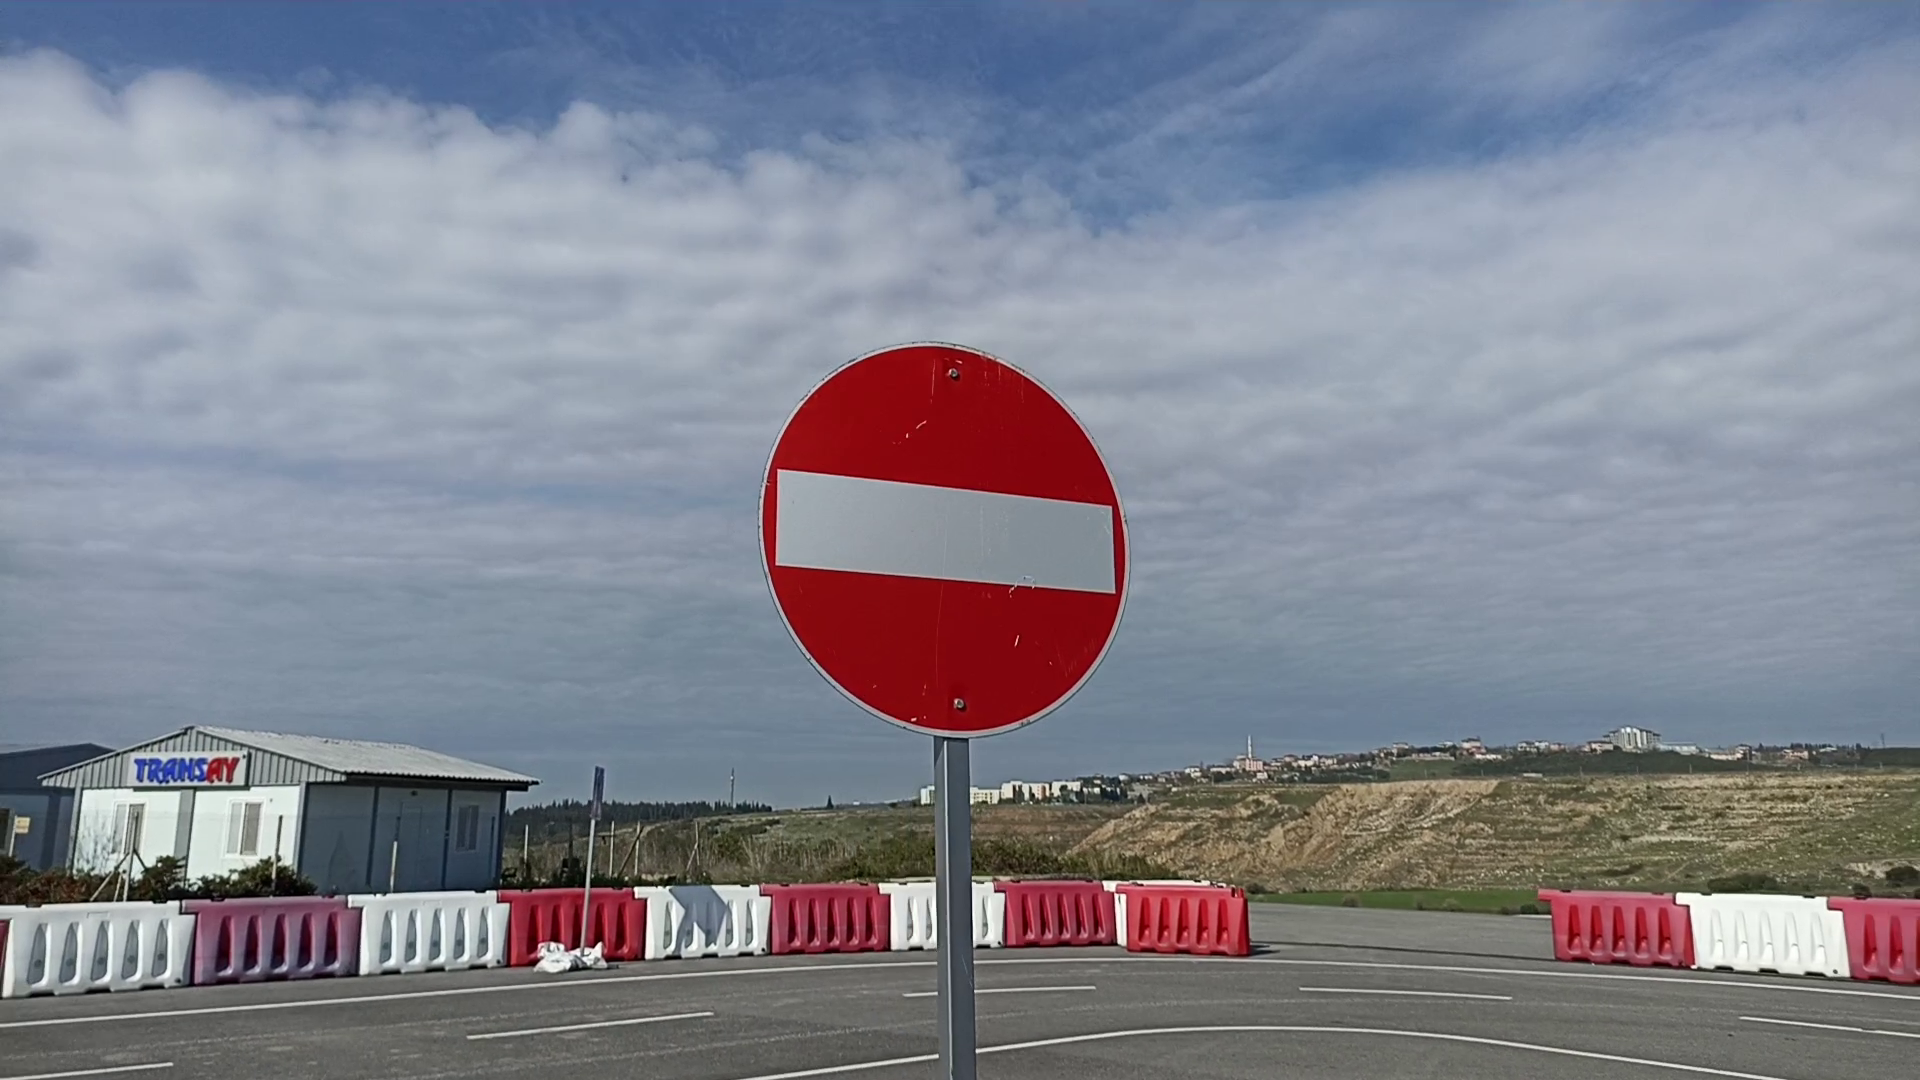noentryway: (752, 338, 1139, 745)
